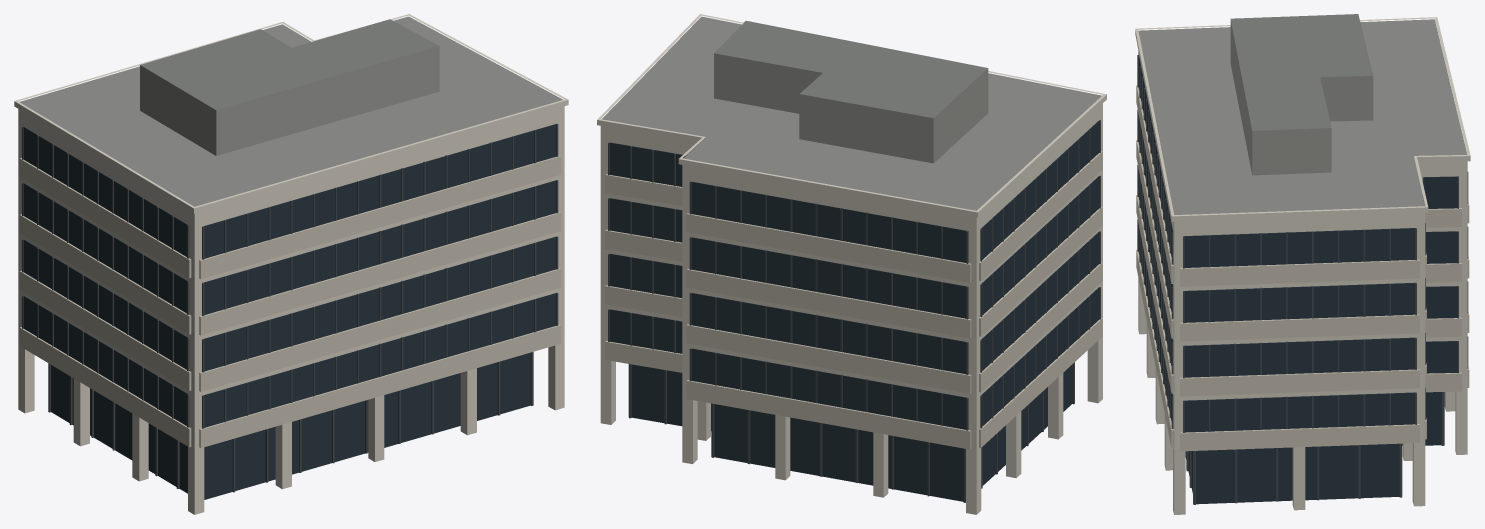
Rendered from imperial_south_building.glb.
3 renders of one model, left to right at view 1: azimuth 30°, elevation 25°; view 2: azimuth 150°, elevation 25°; view 3: azimuth 270°, elevation 25°, orthographic. The views are drawn at different scales.
Bounding box in the file's own units: 24.85 × 20.34 × 17.75.
